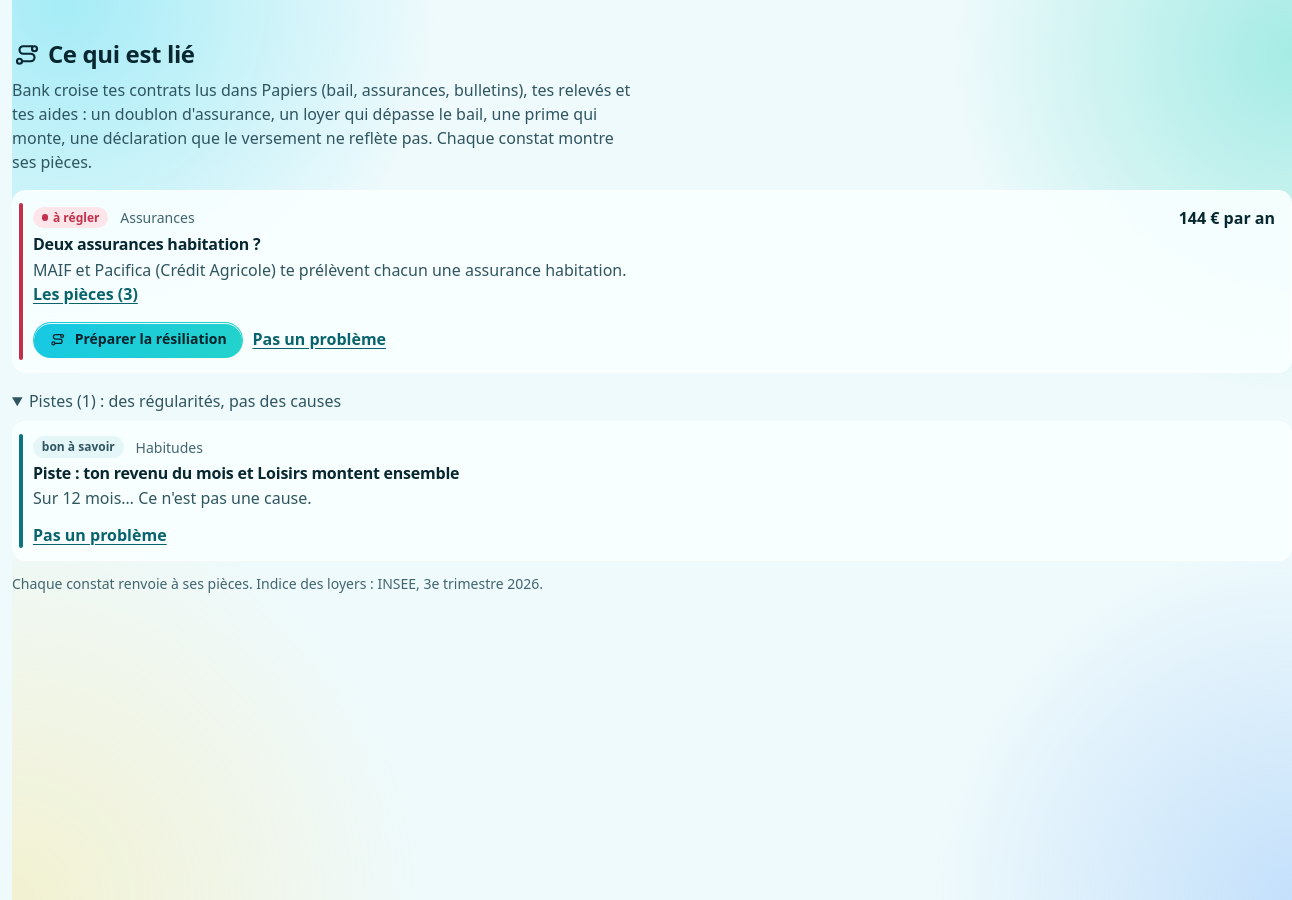
Test: ce qui est lié › montre le doublon avec ses pièces et son enjeu, et range la piste à part
Expected: the text with class "tag" reads "à régler", [53, 209, 100, 226]
Click the button "Les pièces (3)" at {"x": 85, "y": 294}, box [33, 279, 138, 309]
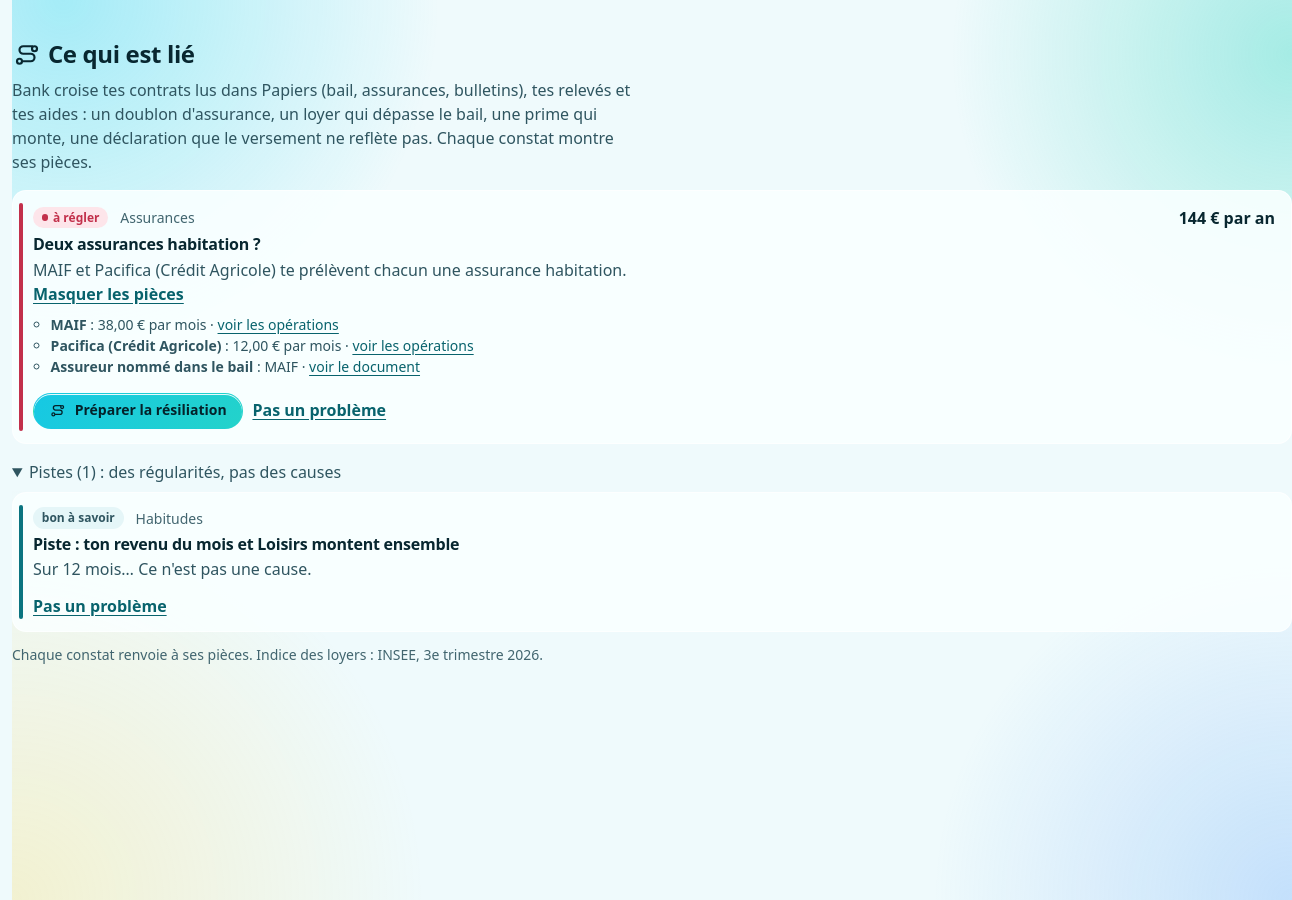
Expected: the element with class "corr-hints" shows "Pistes (1)", [12, 460, 1291, 632]
Now the link to "#/documents/7" is shown, box [309, 357, 420, 376]
